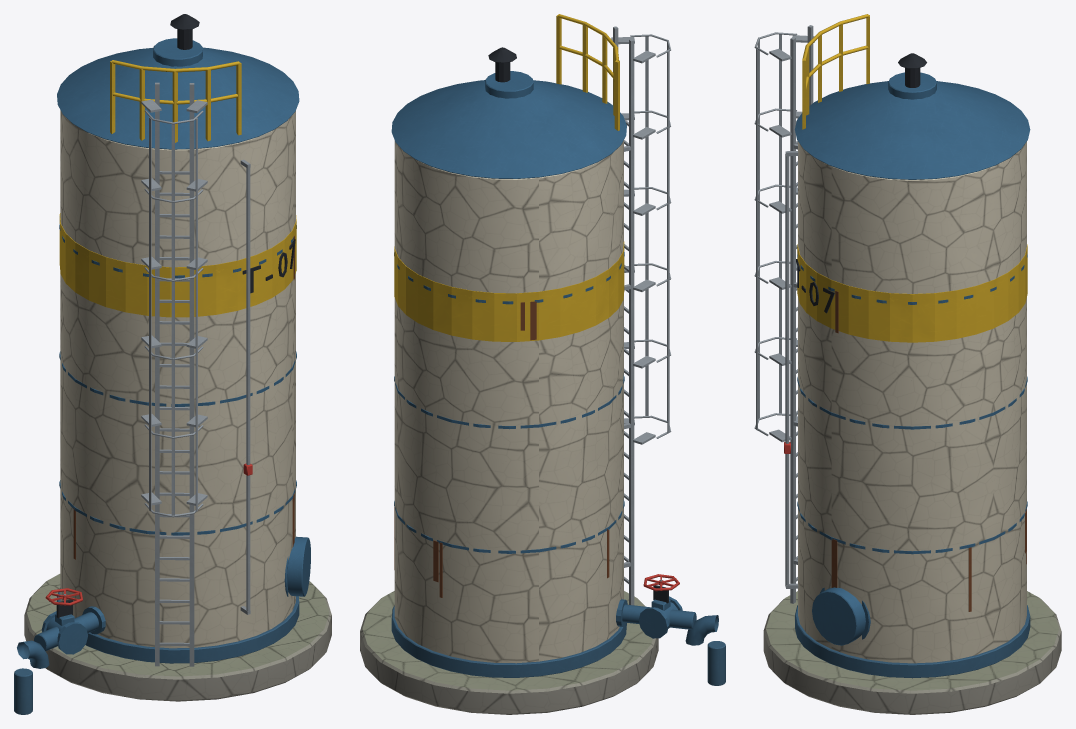
File: storage_tank_tall.glb
3 renders of one model, left to right at view 1: azimuth 30°, elevation 25°; view 2: azimuth 150°, elevation 25°; view 3: azimuth 270°, elevation 25°, orthographic. The views are drawn at different scales.
Visible parts, largest first — view 1: storage_tank_tall; view 2: storage_tank_tall; view 3: storage_tank_tall.
Boxes of the visible parts, x1=… form: storage_tank_tall: x1=14, y1=14, x2=331, y2=714; storage_tank_tall: x1=360, y1=14, x2=725, y2=714; storage_tank_tall: x1=754, y1=14, x2=1061, y2=714.
Size of the model in its own units: 4.77 by 8.79 by 4.02.
Materials: 15 (15 with a texture image).
